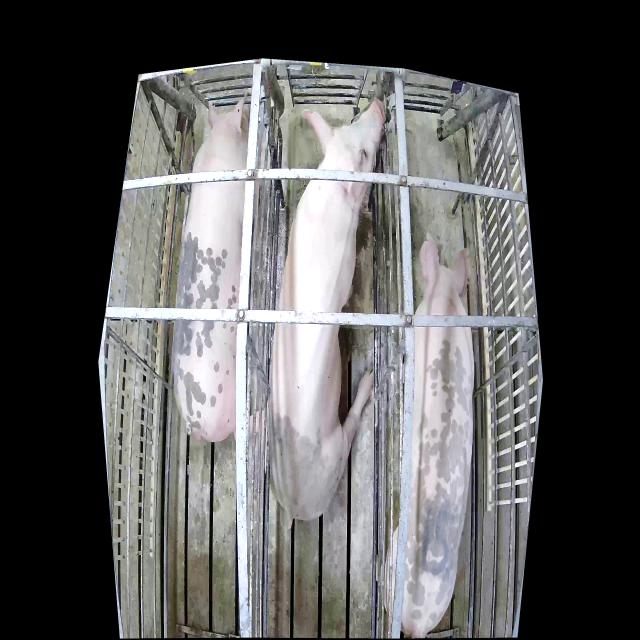pig: (268, 100, 385, 518), (384, 231, 475, 639), (174, 91, 250, 441)
